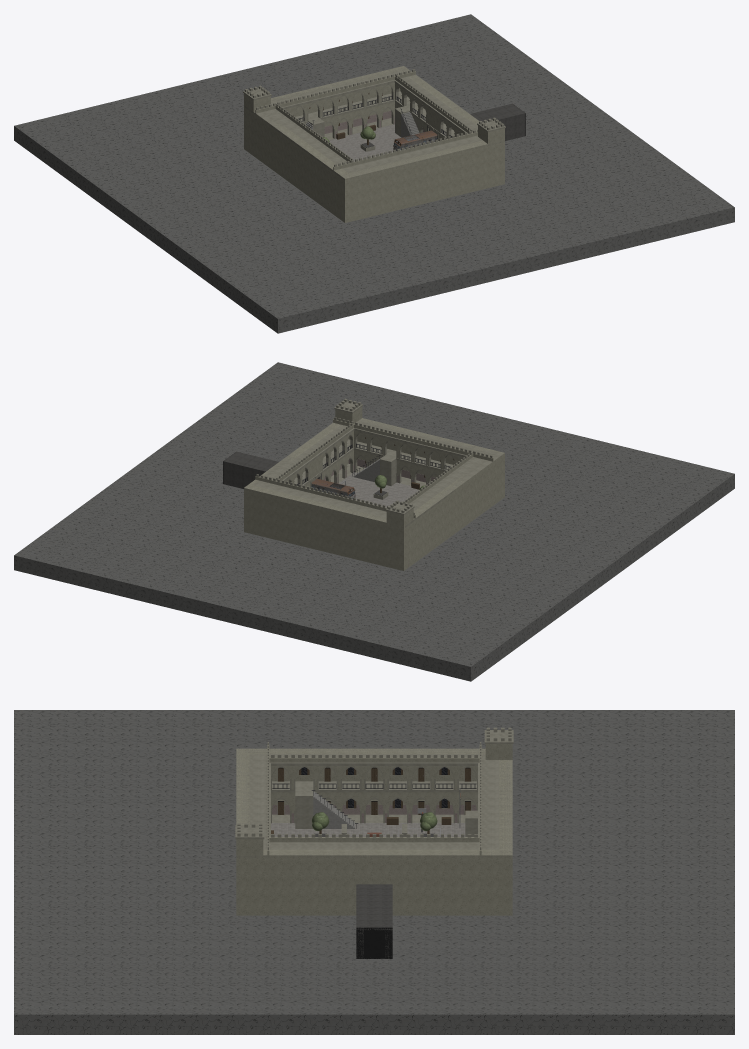
Rendered from school.glb.
3 views of the same model, one above another, from view 1: azimuth 30°, elevation 25°; view 2: azimuth 150°, elevation 25°; view 3: azimuth 270°, elevation 25° (orthographic). The views are drawn at different scales.
Visible parts, largest first — view 1: school_asphalt, school_plaster, school_stone, school_paving, school_tunnel; view 2: school_asphalt, school_plaster, school_stone, school_tunnel, school_paving; view 3: school_asphalt, school_plaster, school_stone, school_tunnel, school_paving, school_wood, school_dark, school_plaster_pink, school_metal_dark, school_concrete, school_foliage.
Boxes of the visible parts, left/top/right/bottom form: school_asphalt: left=14, top=14, right=734, bottom=333; school_plaster: left=244, top=66, right=504, bottom=222; school_stone: left=243, top=66, right=505, bottom=179; school_paving: left=329, top=124, right=401, bottom=161; school_tunnel: left=361, top=103, right=525, bottom=147; school_asphalt: left=14, top=362, right=734, bottom=681; school_plaster: left=244, top=407, right=504, bottom=570; school_stone: left=244, top=398, right=503, bottom=527; school_tunnel: left=223, top=451, right=387, bottom=495; school_paving: left=338, top=472, right=418, bottom=507; school_asphalt: left=14, top=710, right=734, bottom=1034; school_plaster: left=236, top=744, right=512, bottom=915; school_stone: left=235, top=727, right=513, bottom=857; school_tunnel: left=314, top=833, right=434, bottom=958; school_paving: left=271, top=823, right=465, bottom=836; school_wood: left=271, top=768, right=470, bottom=833; school_dark: left=278, top=767, right=470, bottom=958; school_plaster_pink: left=272, top=805, right=476, bottom=822; school_metal_dark: left=272, top=783, right=476, bottom=832; school_concrete: left=313, top=791, right=354, bottom=828; school_foliage: left=312, top=812, right=437, bottom=831.
Bounding box in the file's own units: 120 × 18.7 × 120.
Materials: 20 (18 with a texture image).
